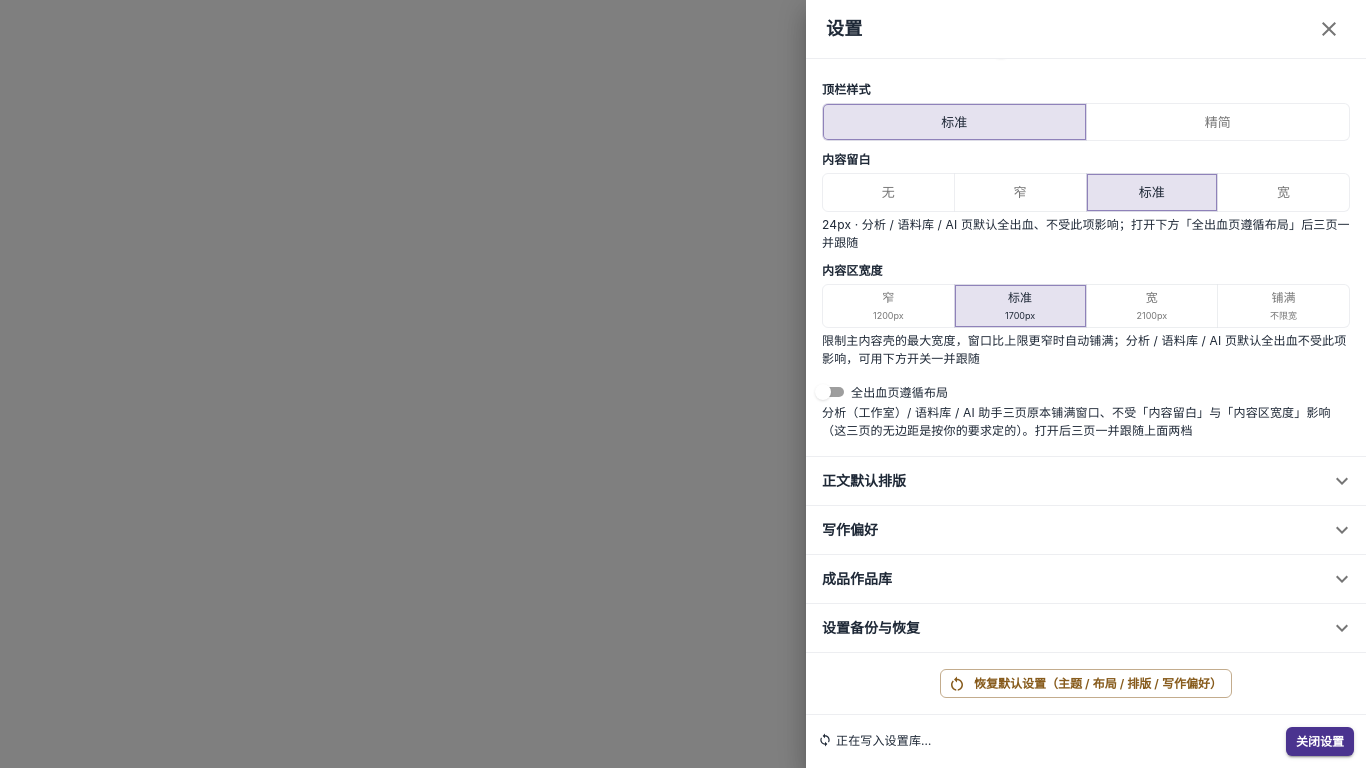
Scenario: 设置抽屉 · 段首缩进开关 › 点一下真的会翻，并且写进设置库（此前是无 onChange 的死控件）
(page scrolled)
Click the button "正文默认排版" at (864,481), box [806,457,1365,505]
(page scrolled)
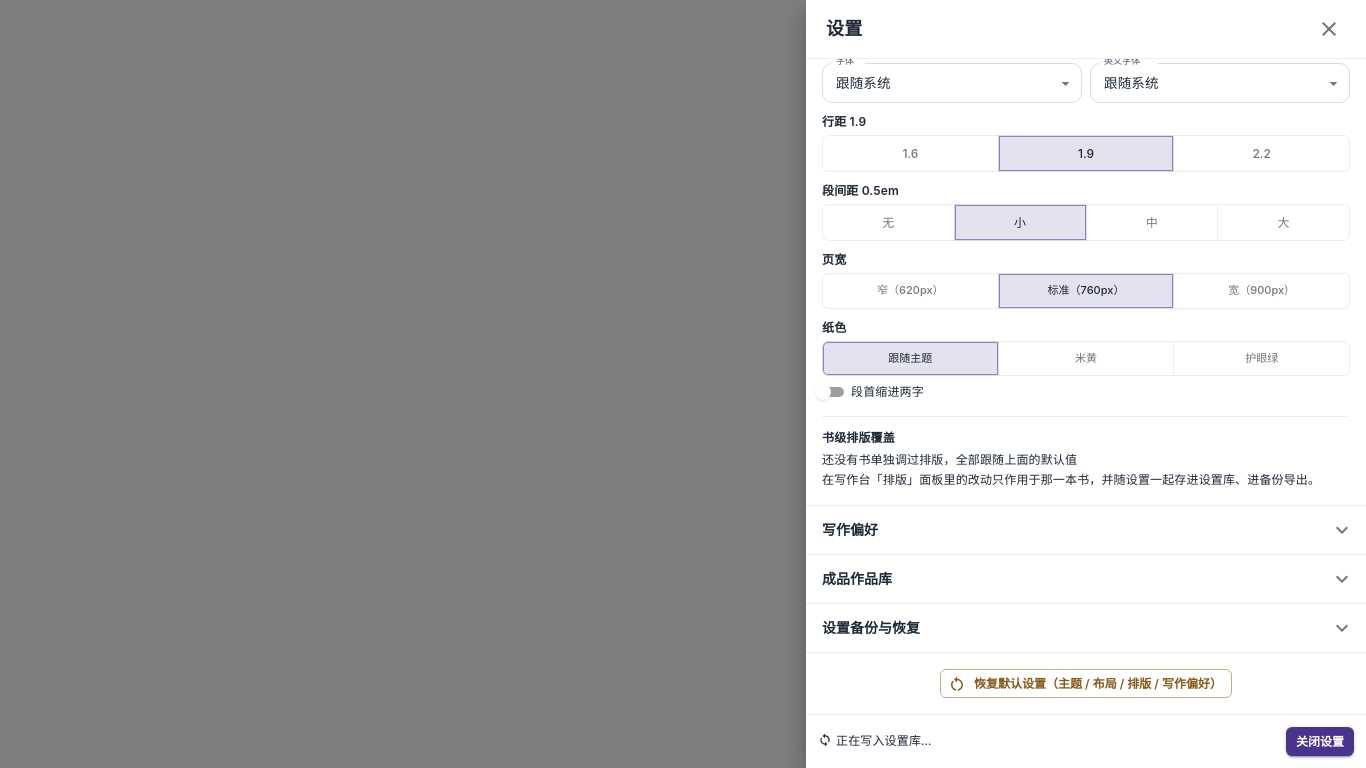
Result: the switch labelled "段首缩进两字" is not checked
Click the switch labelled "段首缩进两字" at (867,392), box [811,380,924,404]
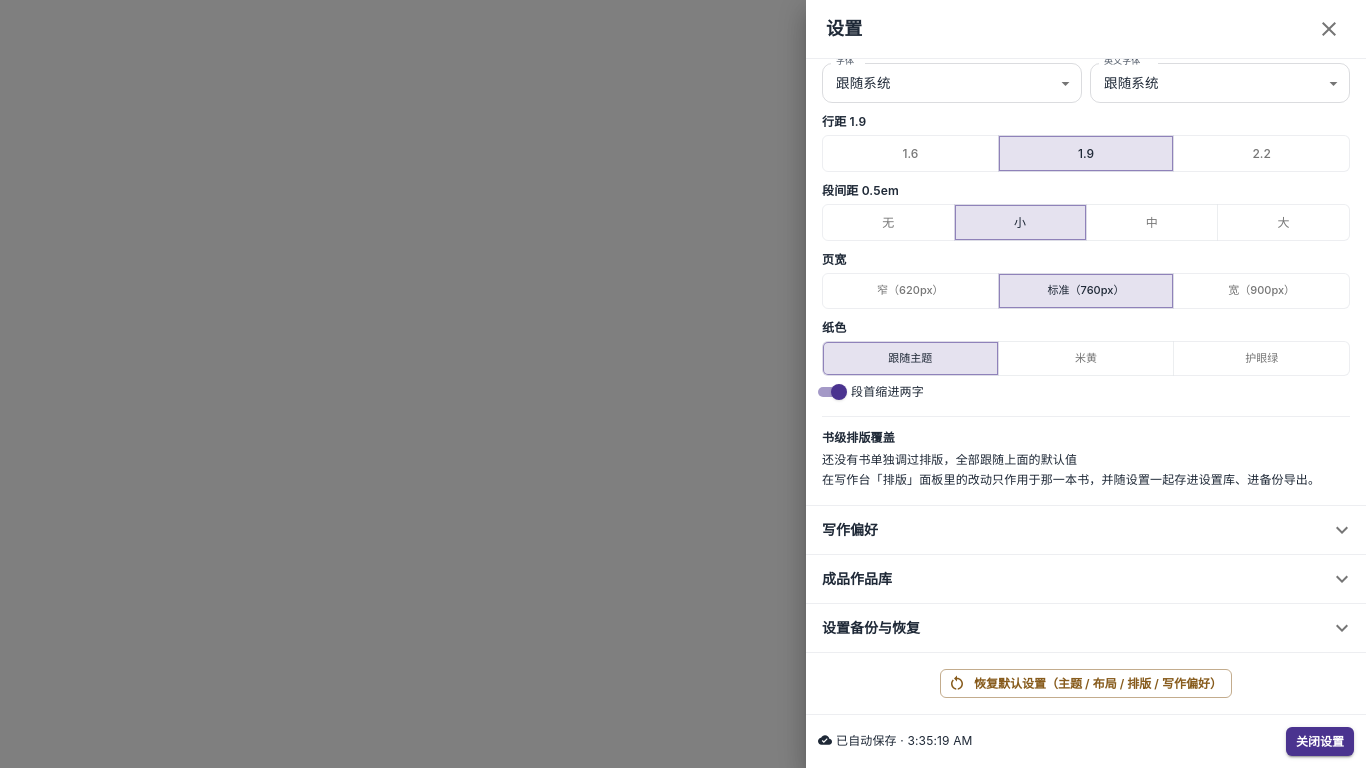
Result: the switch labelled "段首缩进两字" is checked at [811,380,924,404]
